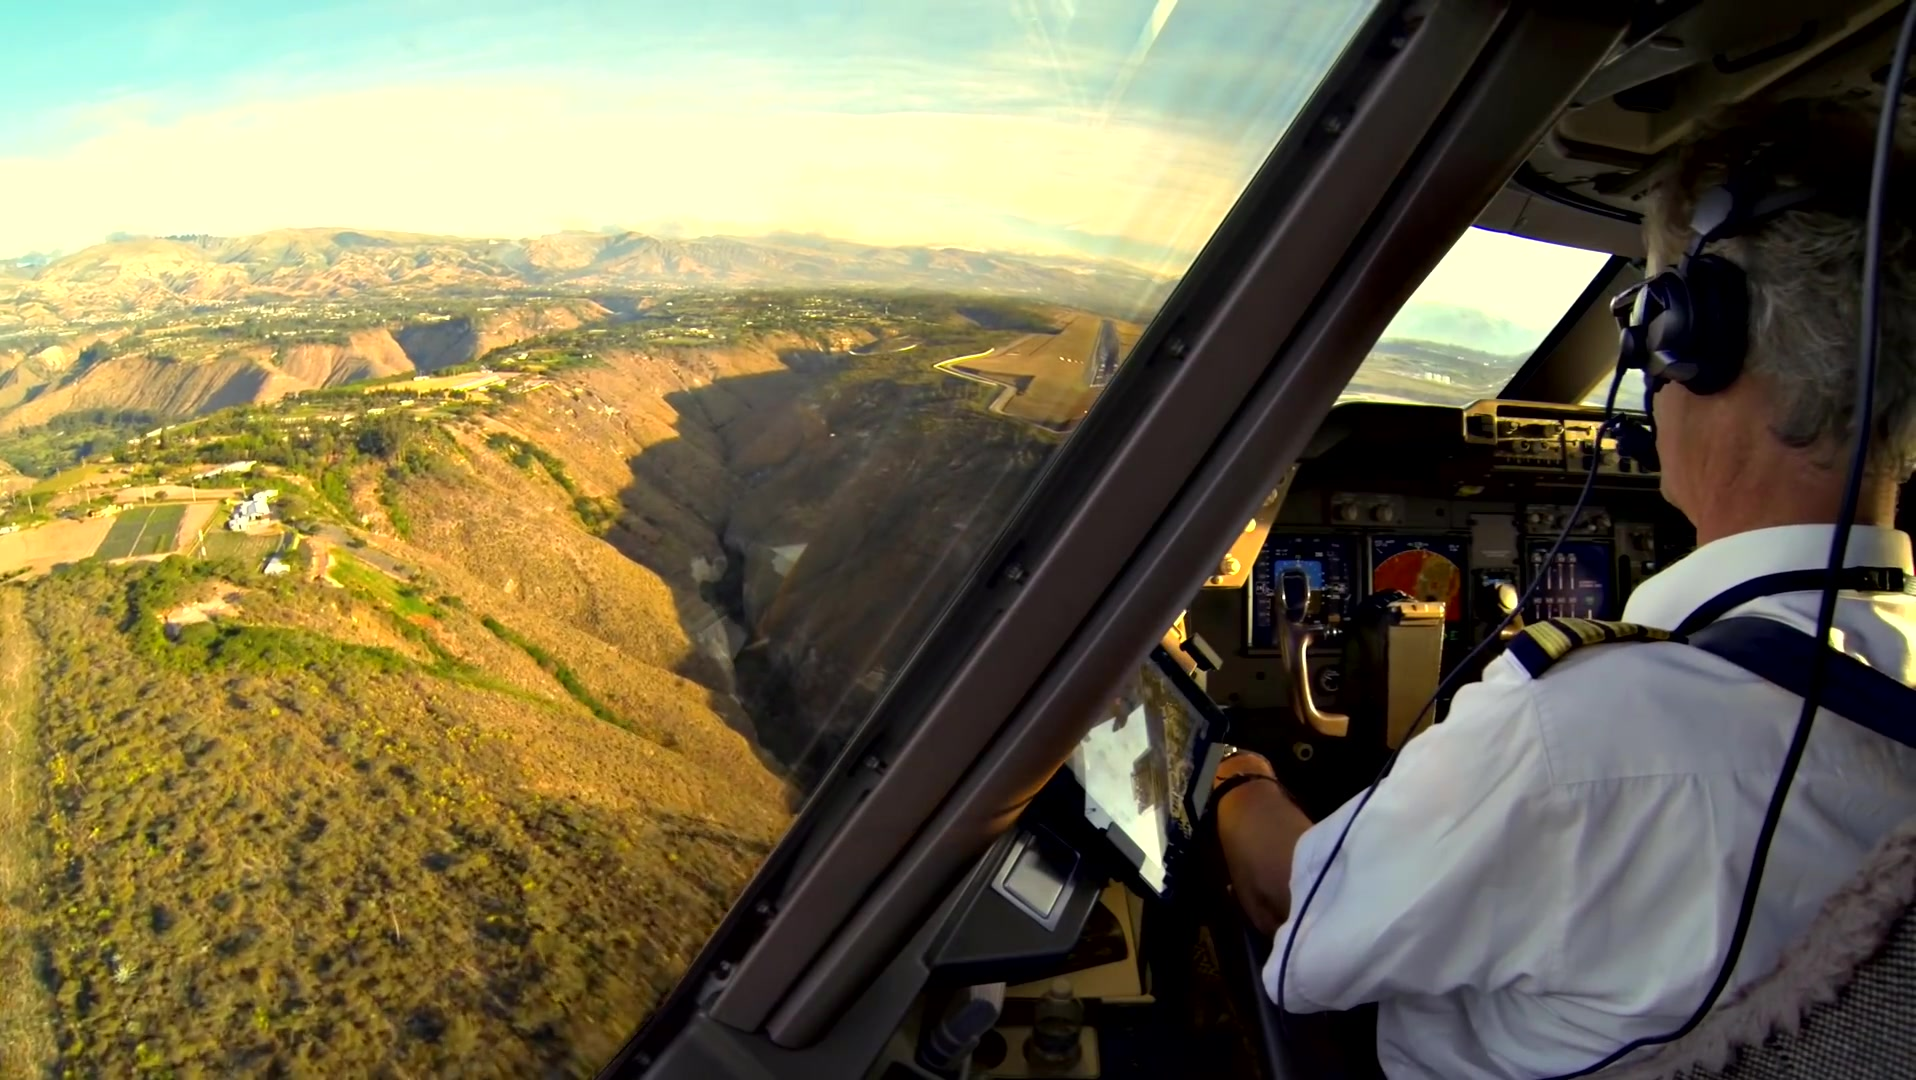runway: (1087, 317, 1126, 391)
